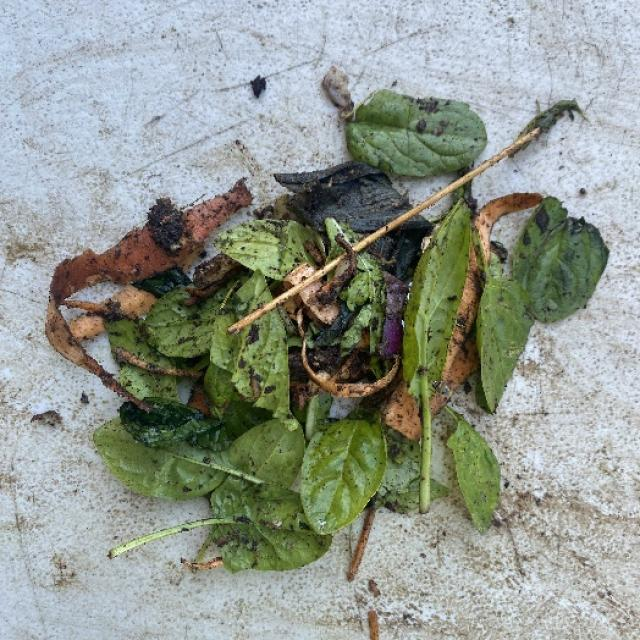organik: (53, 87, 570, 564)
